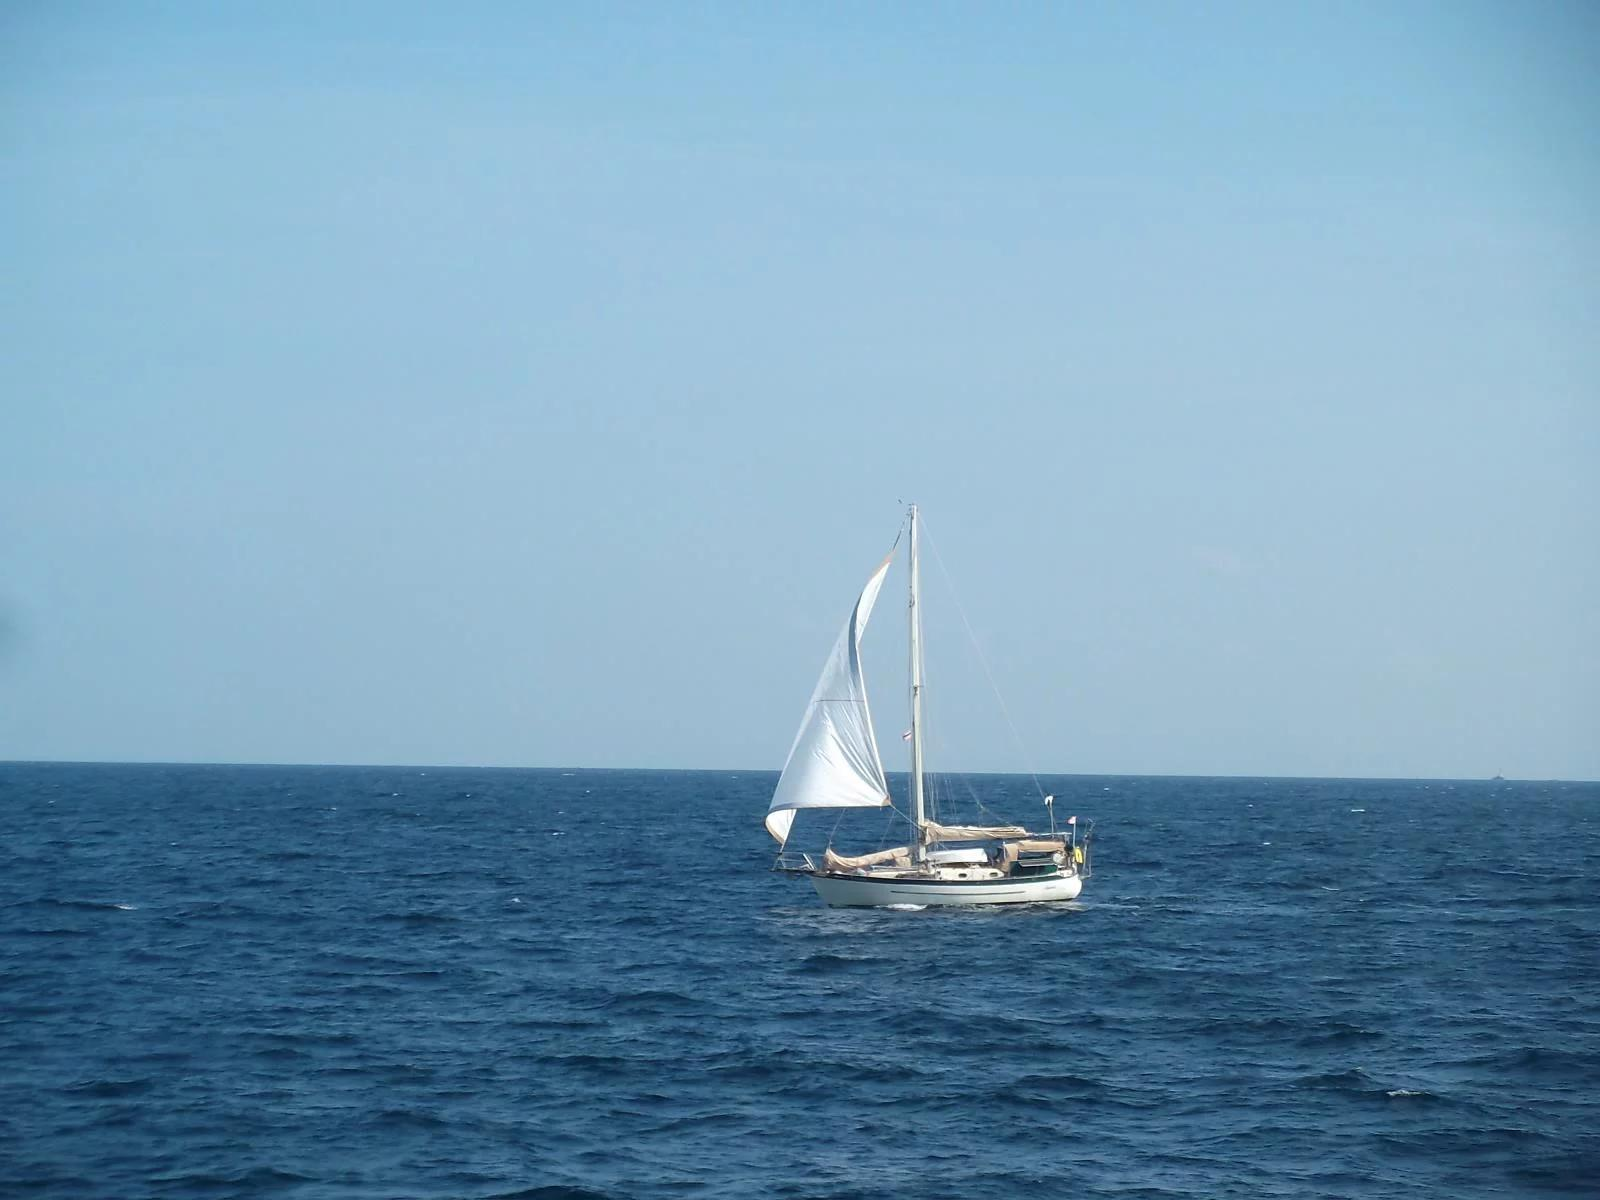fanchuan: (762, 504, 1130, 909)
